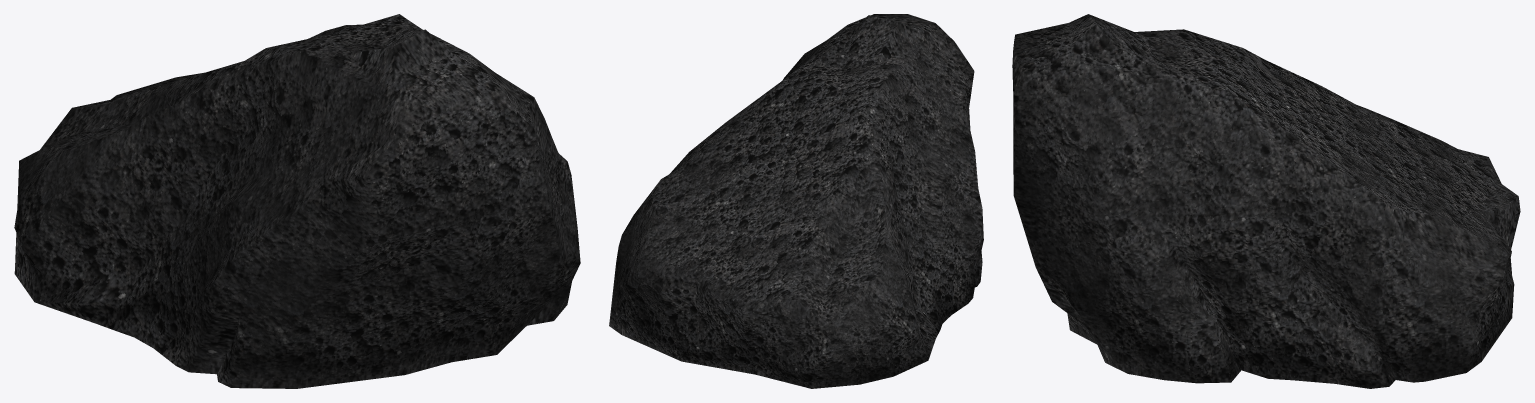
File: ArtistVolcanicRock07.fbx
3 renders of one model, left to right at view 1: azimuth 30°, elevation 25°; view 2: azimuth 150°, elevation 25°; view 3: azimuth 270°, elevation 25°, orthographic. The views are drawn at different scales.
Visible parts, largest first — view 1: ArtistVolcanicRock07_LOD0; view 2: ArtistVolcanicRock07_LOD0; view 3: ArtistVolcanicRock07_LOD0.
Boxes of the visible parts, bbox=[...] form: ArtistVolcanicRock07_LOD0: bbox=[14, 14, 580, 388]; ArtistVolcanicRock07_LOD0: bbox=[609, 14, 983, 388]; ArtistVolcanicRock07_LOD0: bbox=[1012, 14, 1520, 388].
Size of what is drawn, in the model's own units: 1.97 by 1.42 by 2.33.
Materials: 1 (1 with a texture image).
